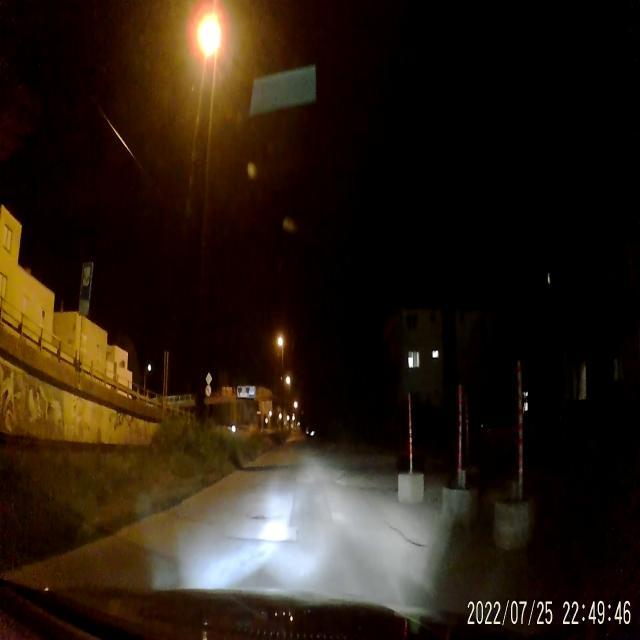Pothole: (248, 502, 268, 526)
